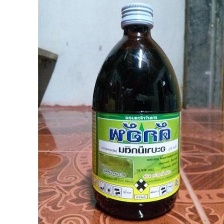insecticide: (87, 0, 185, 223)
